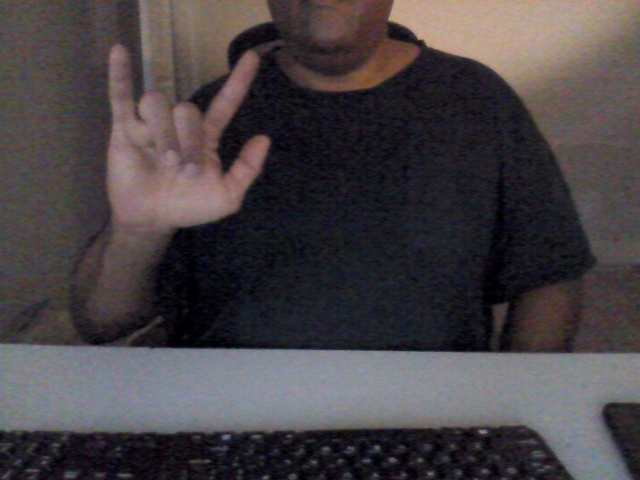i_love_you: (102, 39, 273, 235)
